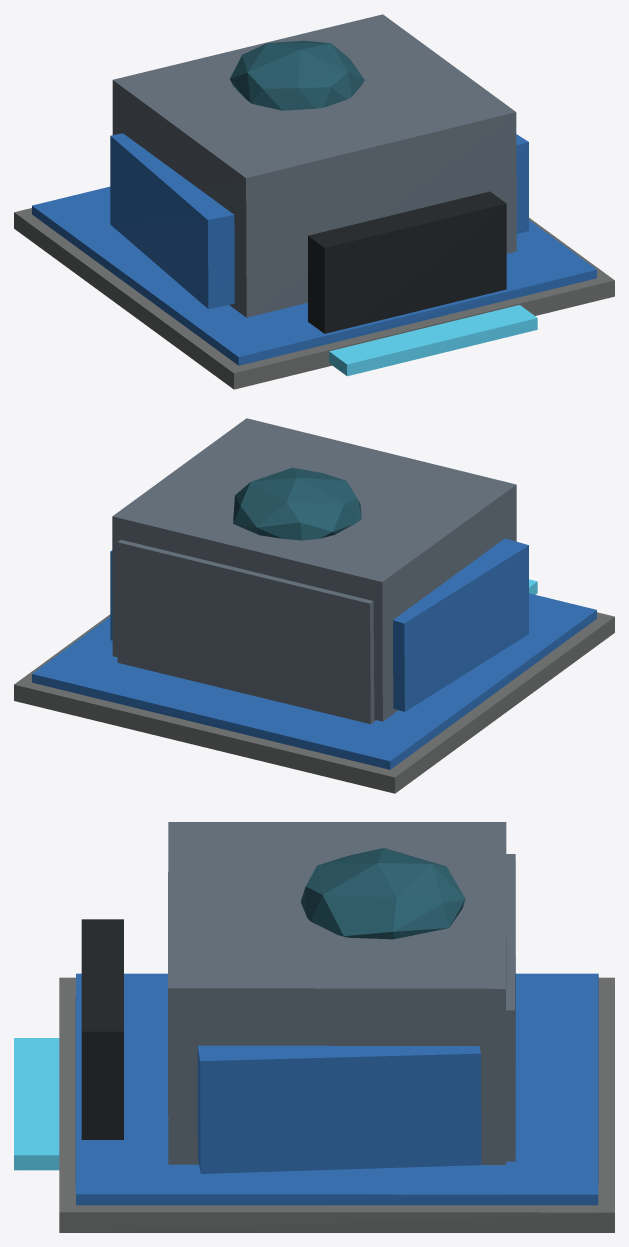
File: SM_Alliance_AL_WarFactory_LOD3.fbx
3 views of the same model, one above another, from view 1: azimuth 30°, elevation 25°; view 2: azimuth 150°, elevation 25°; view 3: azimuth 270°, elevation 25° (orthographic). The views are drawn at different scales.
Parts seen in each view (by area): view 1: LOD03_SM_Alliance_AL_WarFactory; view 2: LOD03_SM_Alliance_AL_WarFactory; view 3: LOD03_SM_Alliance_AL_WarFactory.
Part boxes in pixels (x1,y1,x2,y2): LOD03_SM_Alliance_AL_WarFactory: (14, 14, 614, 389); LOD03_SM_Alliance_AL_WarFactory: (14, 418, 614, 793); LOD03_SM_Alliance_AL_WarFactory: (14, 822, 614, 1232).
Bounding box in the file's own units: 797 × 862 × 401.
